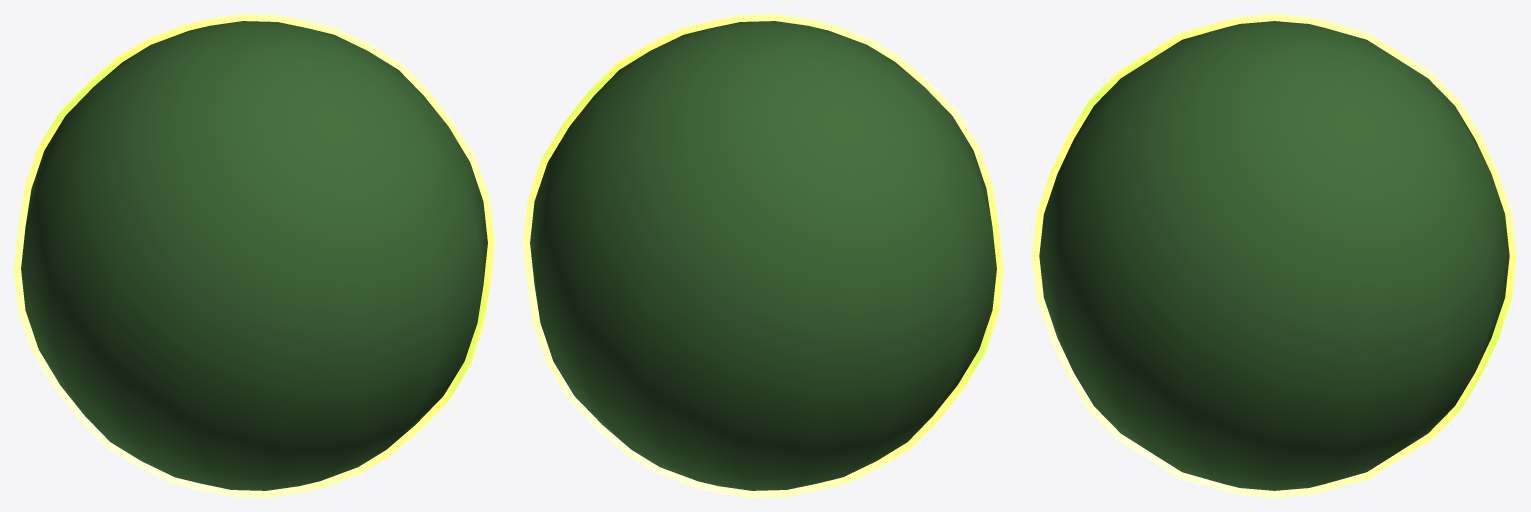
File: cell2.glb
The picture shows the model from 3 angles, left to right: view 1: azimuth 30°, elevation 25°; view 2: azimuth 150°, elevation 25°; view 3: azimuth 270°, elevation 25°; orthographic projection.
Visible parts, largest first — view 1: Sphere; view 2: Sphere; view 3: Sphere.
Part boxes in pixels (x1=…): Sphere: x1=14, y1=14, x2=494, y2=497; Sphere: x1=523, y1=14, x2=1003, y2=497; Sphere: x1=1032, y1=14, x2=1516, y2=497.
Size of the model in its own units: 2.06 by 2.06 by 2.06.
